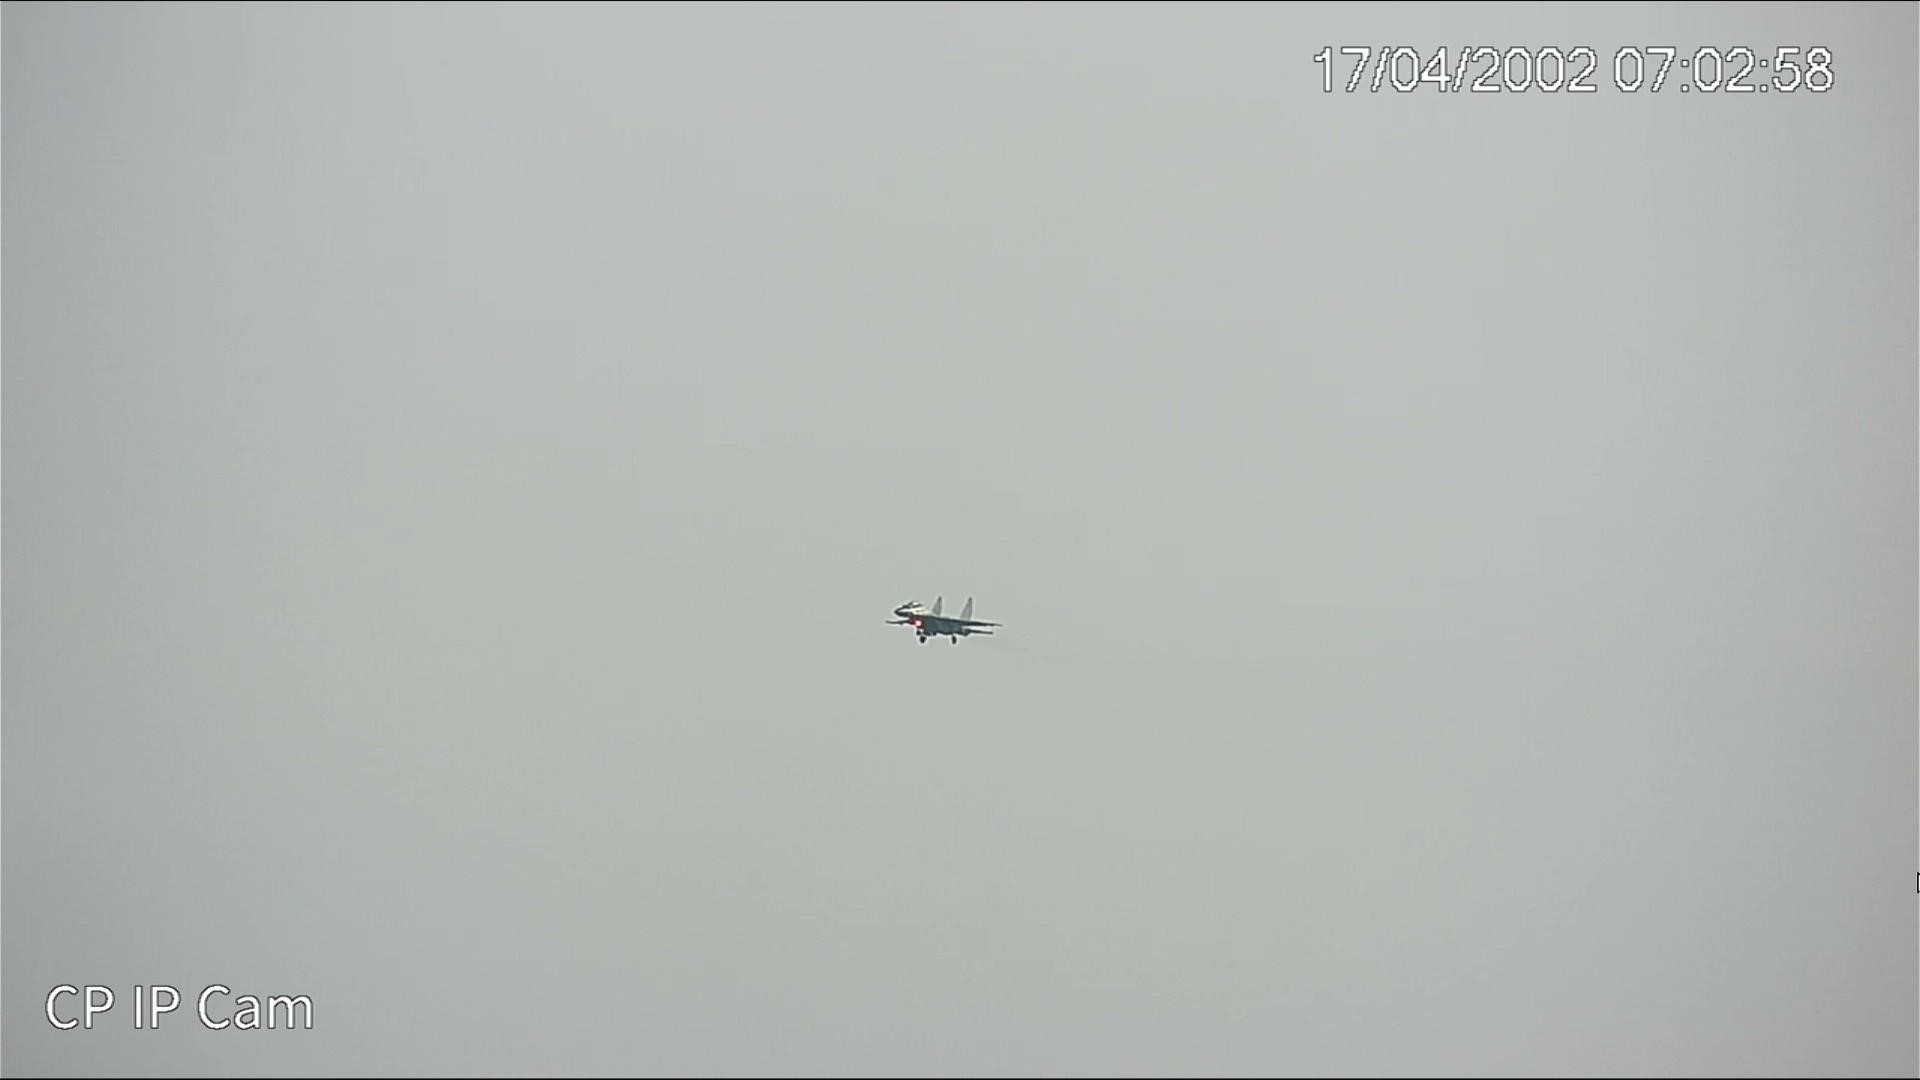SU_30: (885, 593, 1001, 640)
